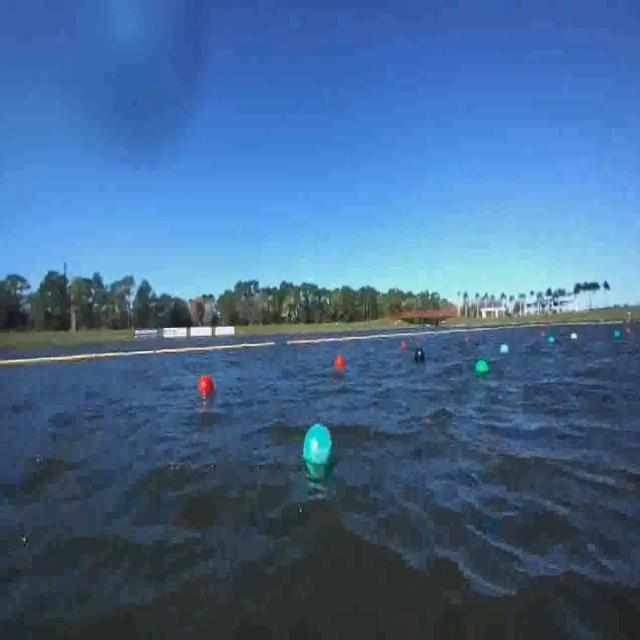black-buoy: (415, 348, 426, 364)
green-buoy: (304, 425, 334, 467), (476, 357, 490, 375), (549, 334, 557, 346)
red-buoy: (200, 373, 217, 393), (336, 354, 346, 368)
